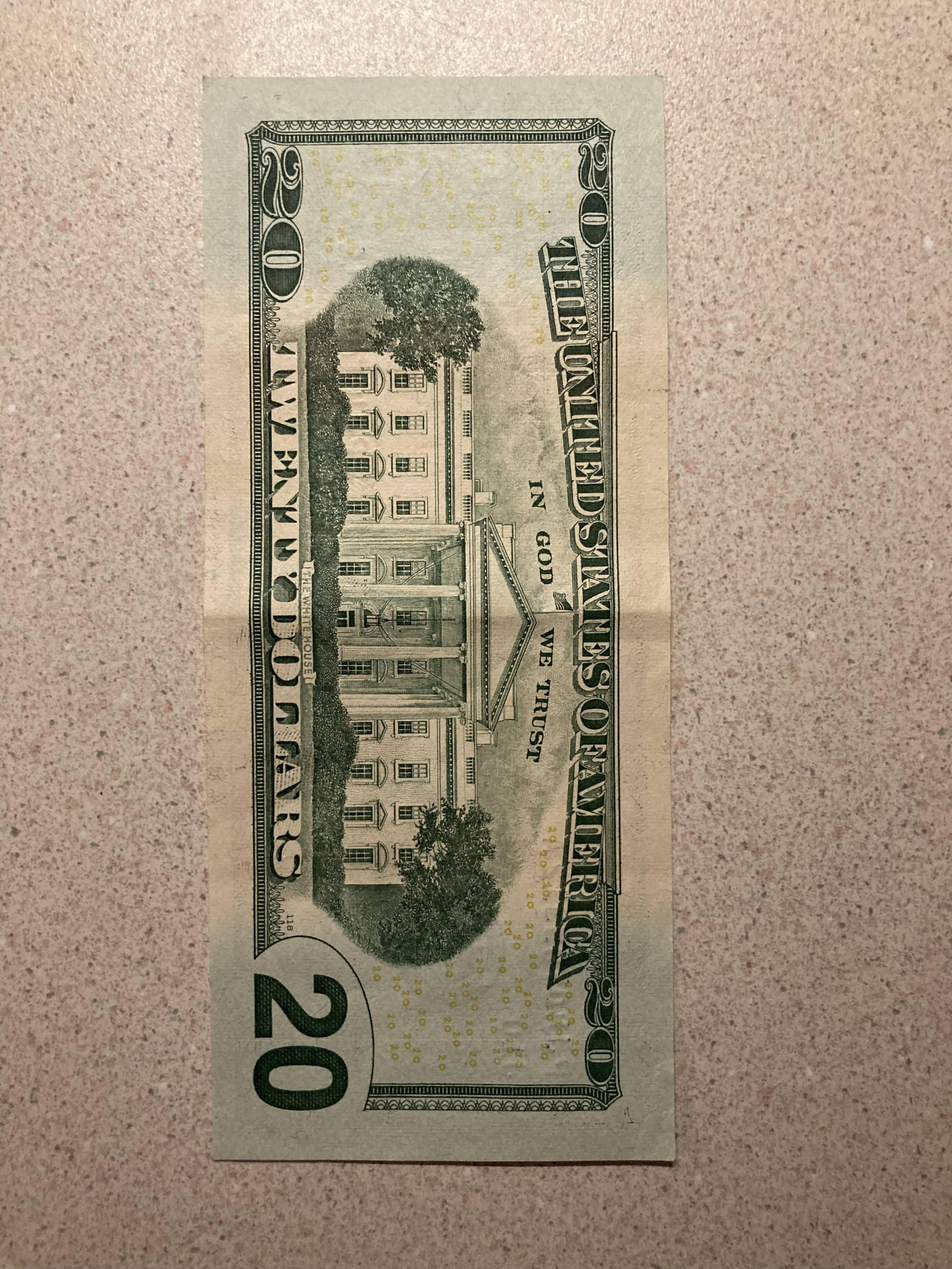twenty-back: (202, 80, 672, 1166)
